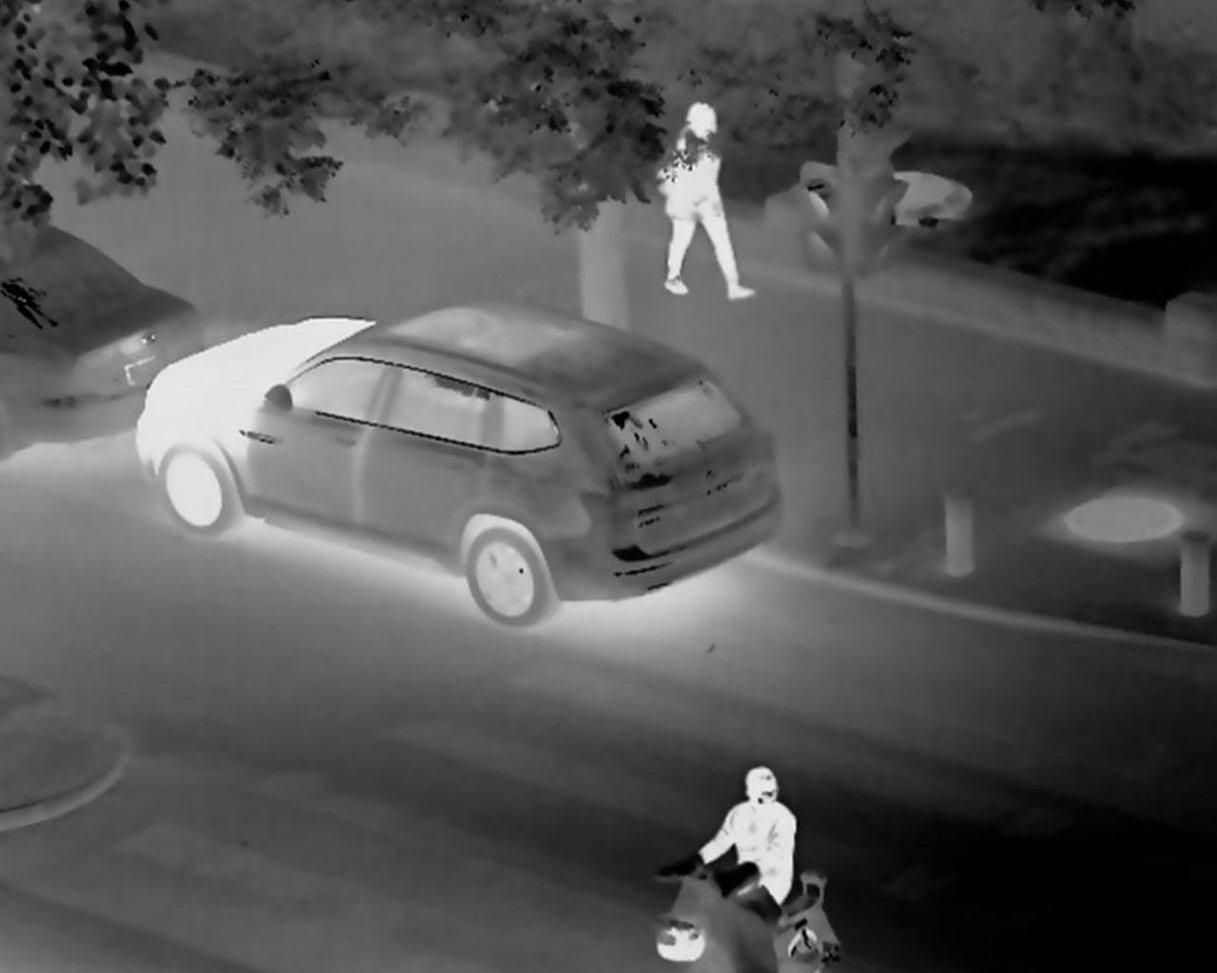person: (665, 104, 757, 316), (706, 749, 796, 946)
